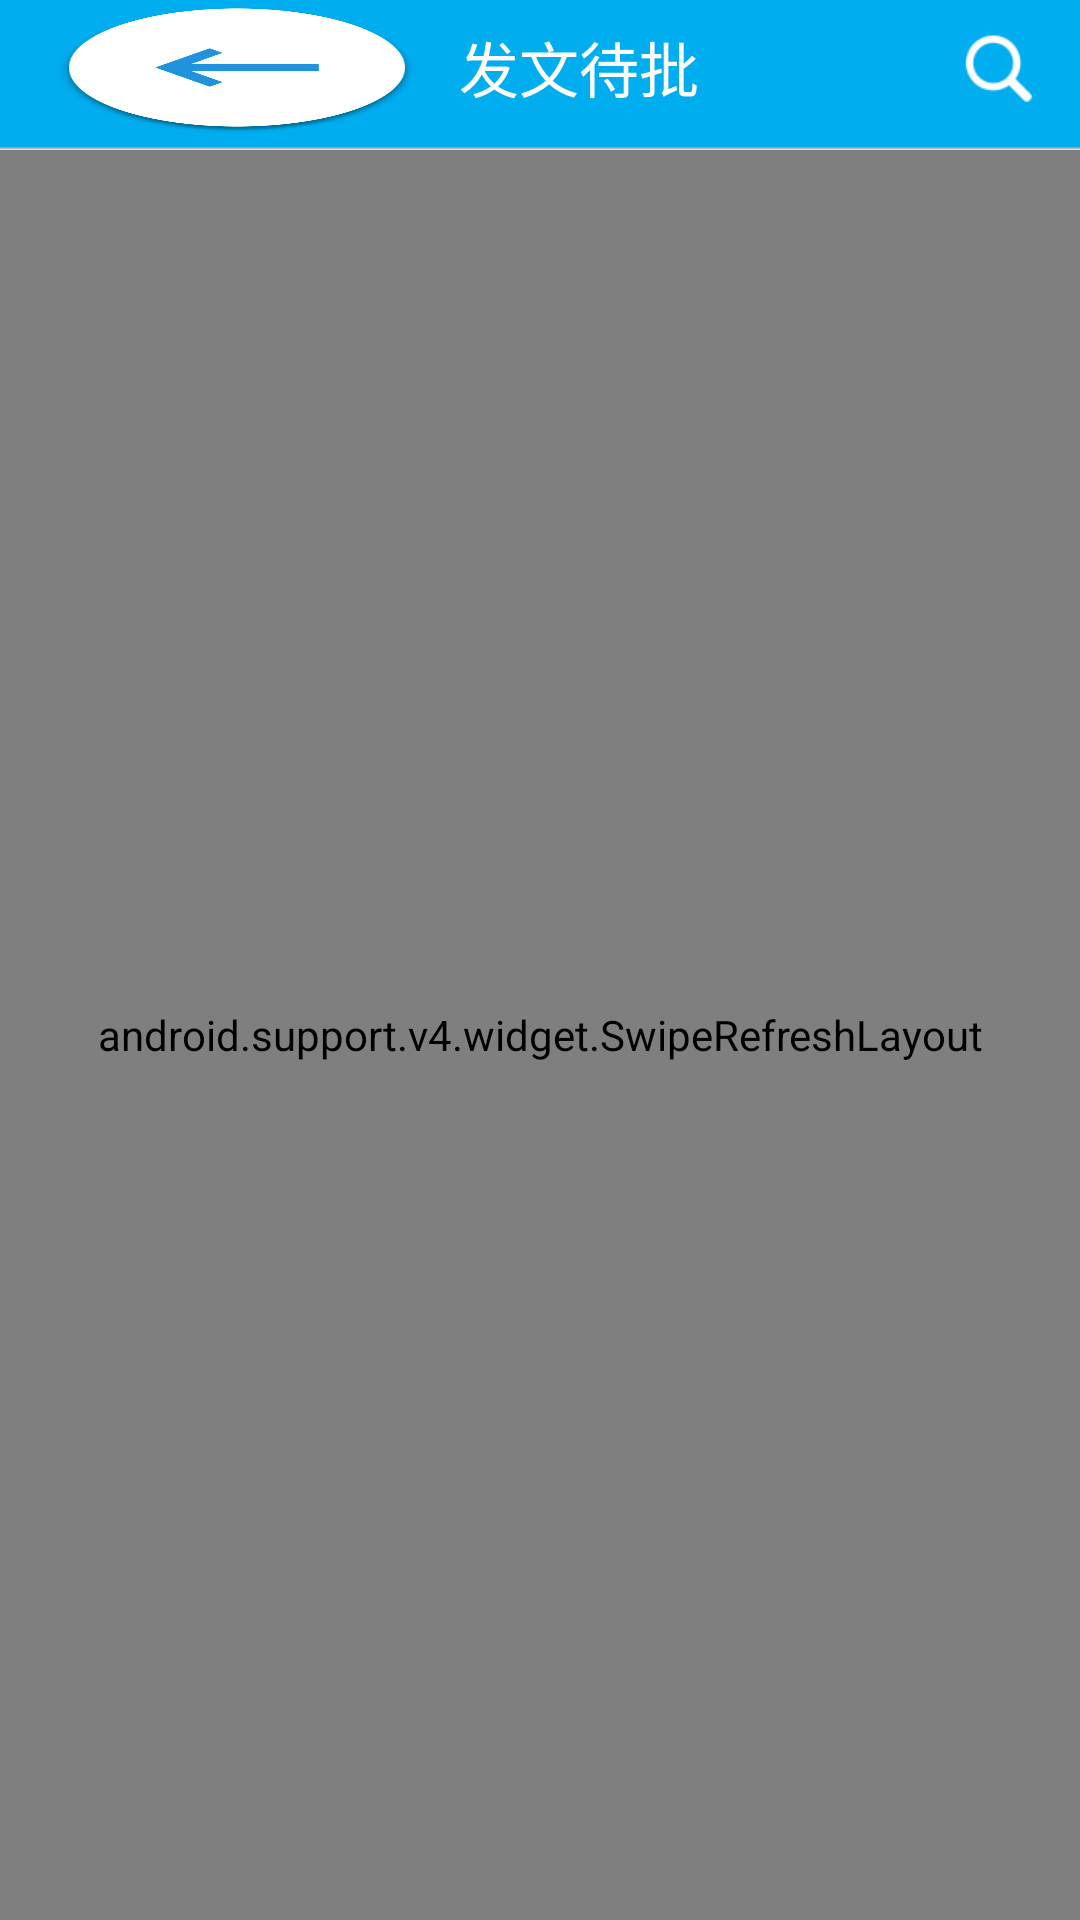

Point at icon controls on the screen. Image size 1080x1920, points as (x=x, y=y).
back: (x=237, y=69)
search: (x=999, y=68)
